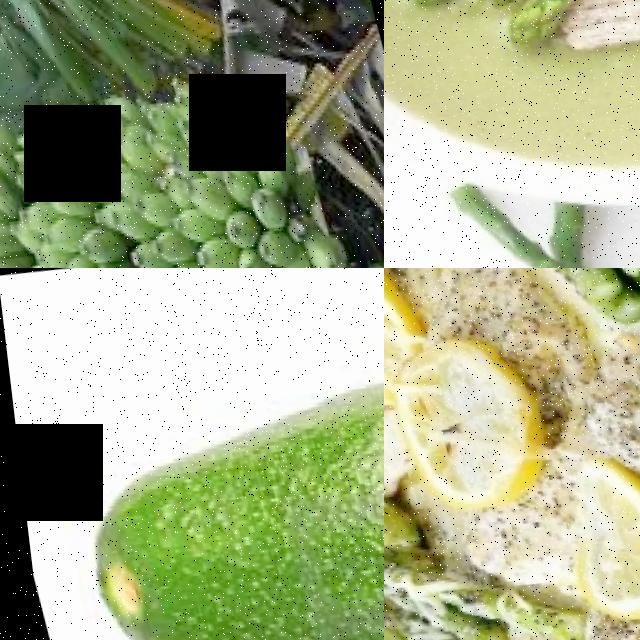asparagus: (426, 191, 632, 268), (392, 0, 610, 29)
avocado: (41, 330, 384, 640)
banana: (0, 45, 354, 268)
